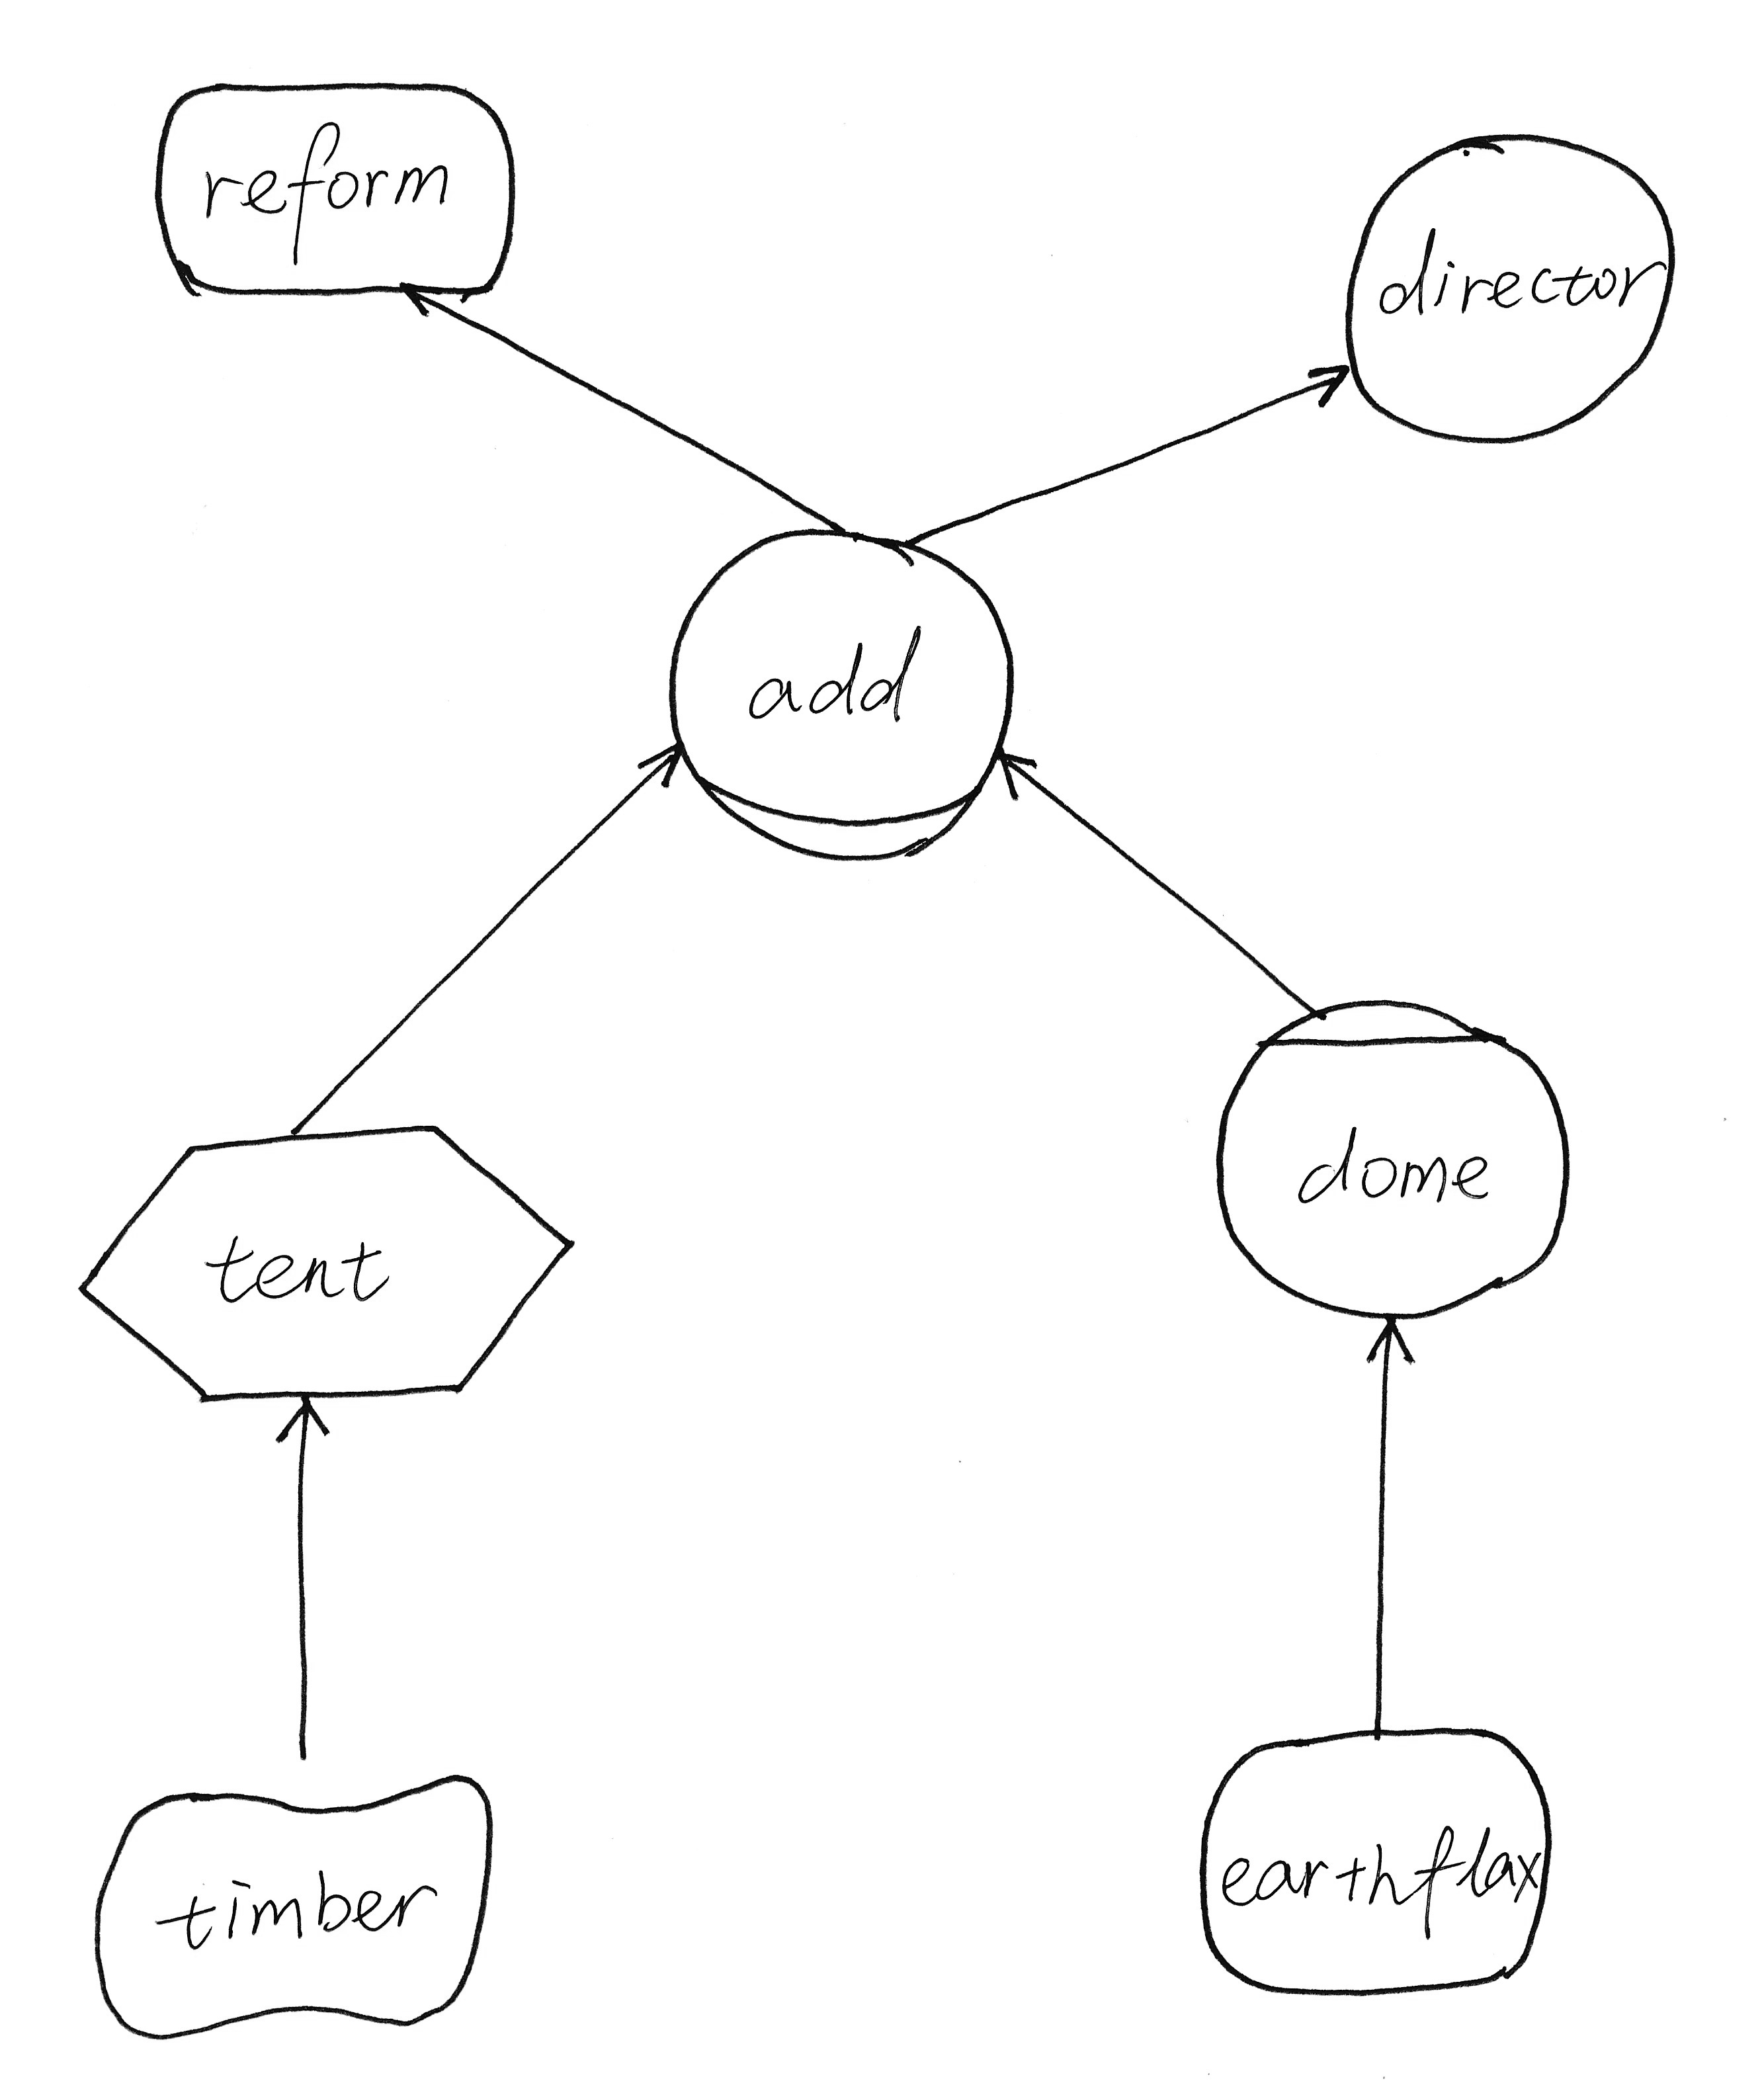actor: (1325, 114, 1701, 455)
agent: (1199, 986, 1585, 1334)
arrow: (1348, 1297, 1433, 1379), (627, 727, 711, 809), (978, 730, 1057, 818), (268, 1378, 341, 1469), (388, 264, 485, 327), (1293, 347, 1374, 422)
goal: (1178, 1709, 1573, 2010), (131, 61, 544, 313)
quality: (72, 1759, 513, 2048)
role: (651, 506, 1036, 884)
task: (65, 1106, 593, 1423)
